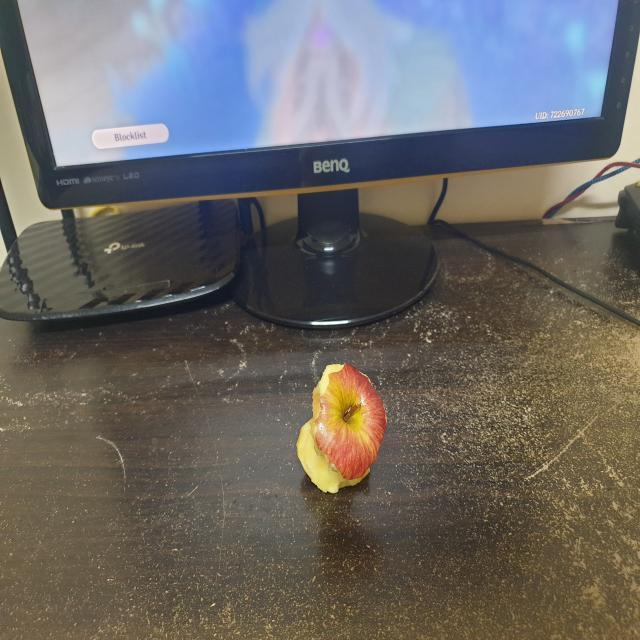apple: (291, 354, 392, 514)
